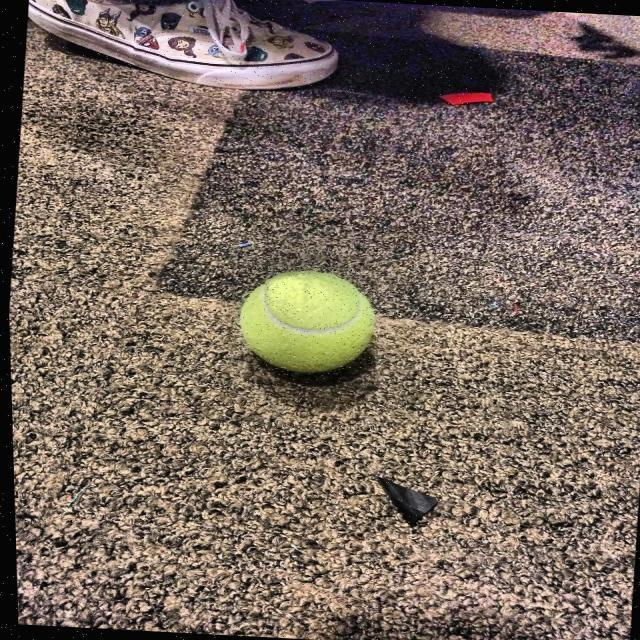tennis-ball: (226, 262, 396, 386)
